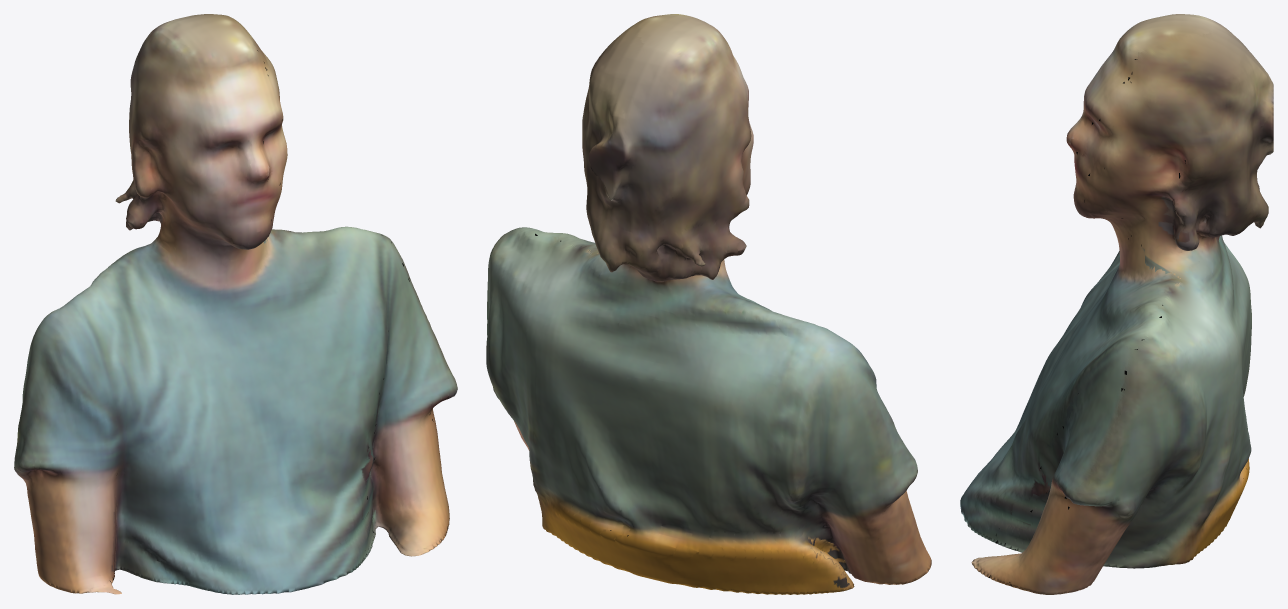
File: Playermodell_0025.fbx
3 renders of one model, left to right at view 1: azimuth 30°, elevation 25°; view 2: azimuth 150°, elevation 25°; view 3: azimuth 270°, elevation 25°, orthographic. The views are drawn at different scales.
Parts seen in each view (by area): view 1: 1st try; view 2: 1st try; view 3: 1st try.
Boxes of the visible parts, x1,y1,x2,y2 form: 1st try: (14, 14, 457, 594); 1st try: (486, 14, 931, 594); 1st try: (960, 14, 1273, 594).
Bounding box in the file's own units: 336 × 380 × 222.
1 material, 1 textured.
